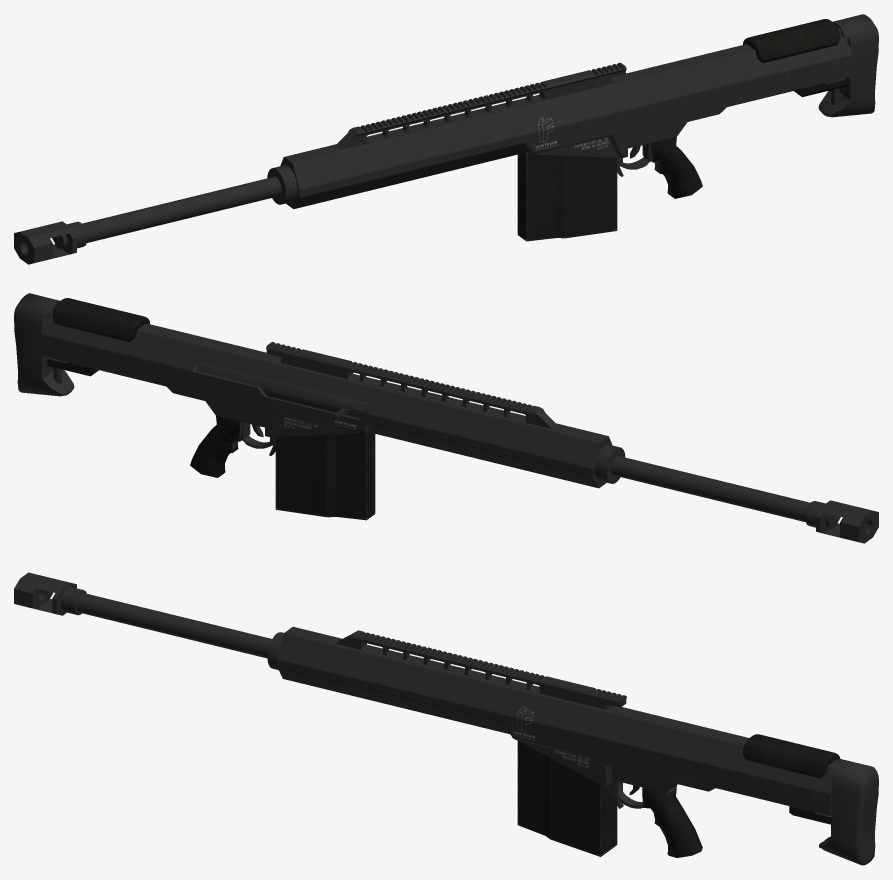
The model's file is weapon_heavysniper.glb.
The picture shows the model from 3 angles, top to bottom: view 1: azimuth 30°, elevation 25°; view 2: azimuth 150°, elevation 25°; view 3: azimuth 330°, elevation 25°; orthographic projection.
Parts seen in each view (by area): view 1: main_frame_heavysniper, stock_heavysniper, magazine_heavysniper, barrel_heavysniper, grip_heavysniper, handguard_heavysniper; view 2: main_frame_heavysniper, stock_heavysniper, magazine_heavysniper, barrel_heavysniper, grip_heavysniper, handguard_heavysniper; view 3: main_frame_heavysniper, stock_heavysniper, magazine_heavysniper, barrel_heavysniper, grip_heavysniper, handguard_heavysniper.
Part boxes in pixels (x1,y1,x2,y2): main_frame_heavysniper: [267, 59, 699, 209]; stock_heavysniper: [685, 14, 878, 117]; magazine_heavysniper: [517, 151, 617, 241]; barrel_heavysniper: [14, 176, 281, 264]; grip_heavysniper: [617, 107, 726, 198]; handguard_heavysniper: [743, 19, 840, 62]; main_frame_heavysniper: [193, 338, 625, 488]; stock_heavysniper: [14, 293, 207, 396]; magazine_heavysniper: [275, 430, 375, 520]; barrel_heavysniper: [611, 456, 878, 543]; grip_heavysniper: [167, 386, 275, 477]; handguard_heavysniper: [52, 298, 149, 342]; main_frame_heavysniper: [267, 626, 692, 786]; stock_heavysniper: [671, 724, 878, 865]; magazine_heavysniper: [517, 741, 617, 856]; barrel_heavysniper: [14, 572, 271, 658]; grip_heavysniper: [607, 763, 715, 857]; handguard_heavysniper: [743, 734, 840, 778].
Bounding box in the file's own units: 154 × 27.17 × 8.6.
3 materials, 3 textured.
